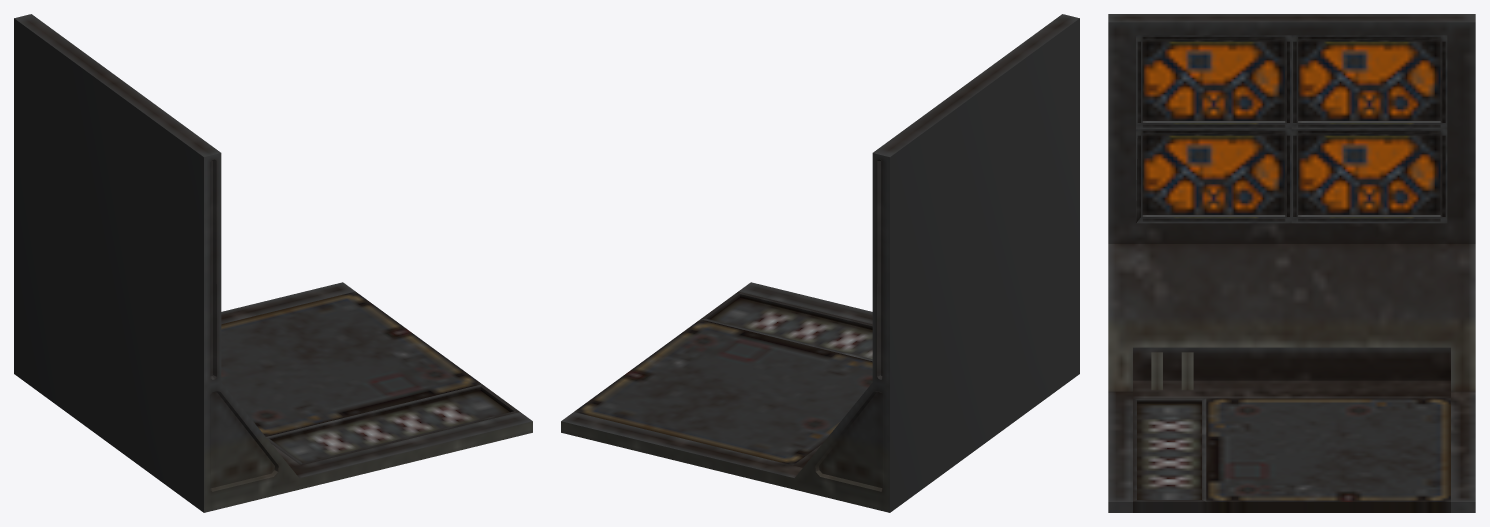
The model's file is Wall-Floor_15.FBX.
3 renders of one model, left to right at view 1: azimuth 30°, elevation 25°; view 2: azimuth 150°, elevation 25°; view 3: azimuth 270°, elevation 25°, orthographic. The views are drawn at different scales.
Parts seen in each view (by area): view 1: Wall-Floor_15; view 2: Wall-Floor_15; view 3: Wall-Floor_15.
Boxes of the visible parts, x1,y1,x2,y2 form: Wall-Floor_15: (14, 14, 532, 512); Wall-Floor_15: (561, 14, 1079, 512); Wall-Floor_15: (1108, 14, 1475, 512).
Size of the model in its own units: 300 by 310 by 300.
